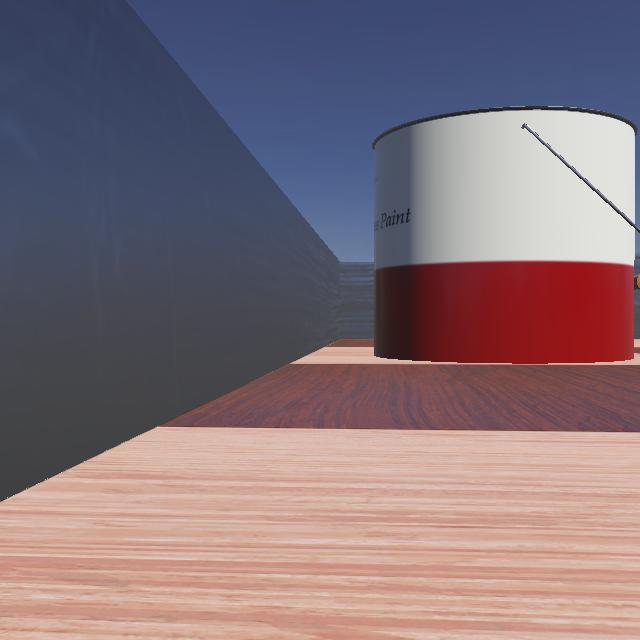paint-bucket: (363, 100, 639, 366)
